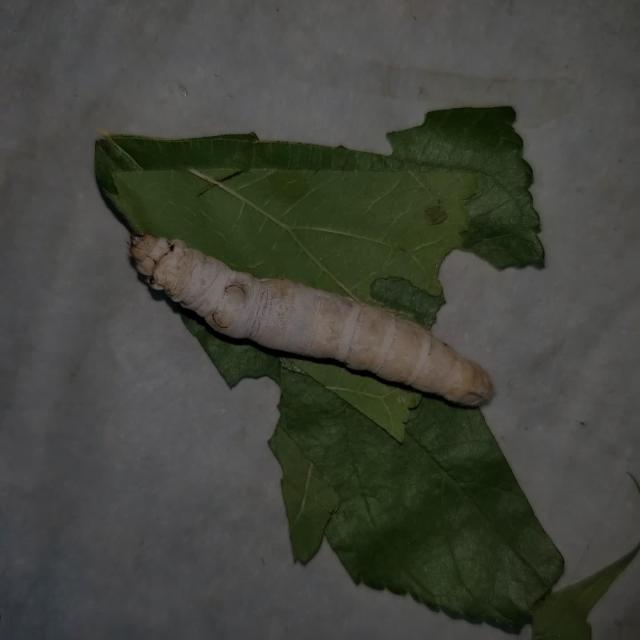Grasserie: (113, 212, 501, 440)
